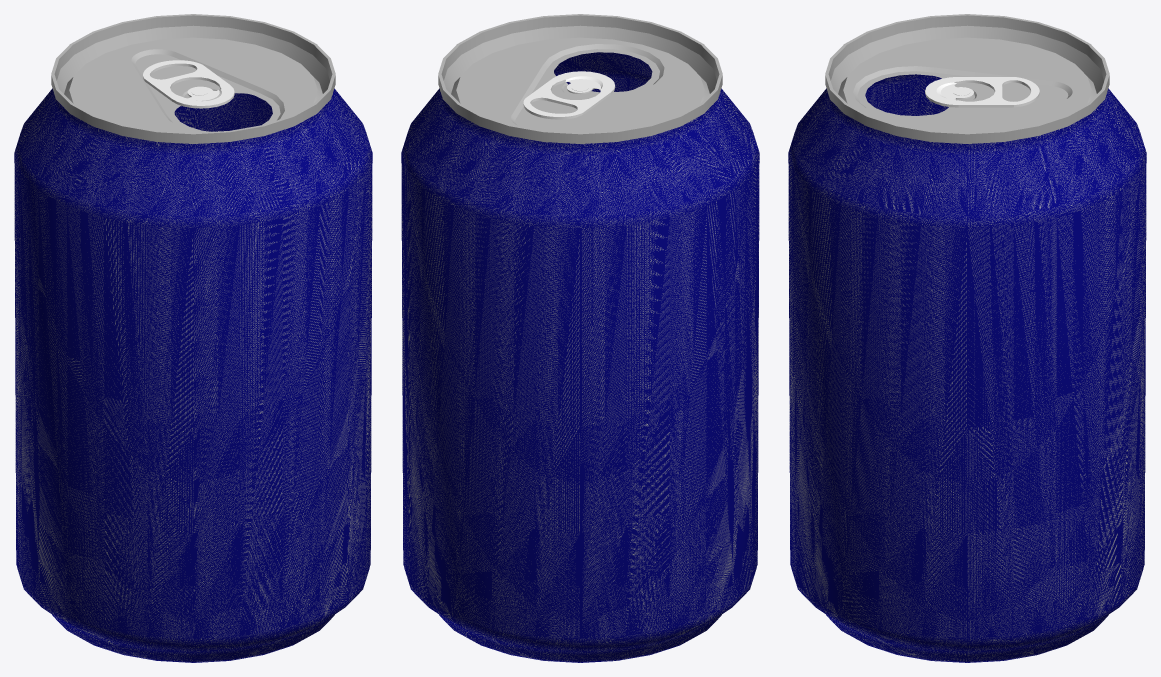
3 renders of one model, left to right at view 1: azimuth 30°, elevation 25°; view 2: azimuth 150°, elevation 25°; view 3: azimuth 270°, elevation 25°, orthographic.
Visible parts, largest first — view 1: group_0 (×5), group_1; view 2: group_0 (×5), group_1; view 3: group_0 (×5), group_1.
Part boxes in pixels (box(x1,y1,x2,y2)): group_0 (×5): box(14, 14, 372, 662); group_1: box(143, 60, 234, 108); group_0 (×5): box(401, 14, 759, 662); group_1: box(523, 71, 615, 119); group_0 (×5): box(788, 14, 1146, 662); group_1: box(925, 77, 1039, 107).
Size of the model in its own units: 24.86 by 24.86 by 40.55.
